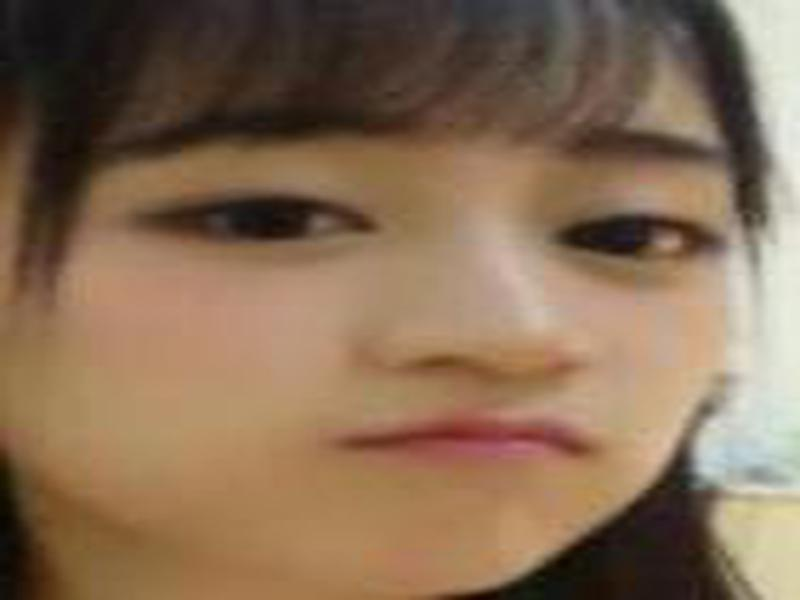without_mask: (25, 33, 734, 585)
